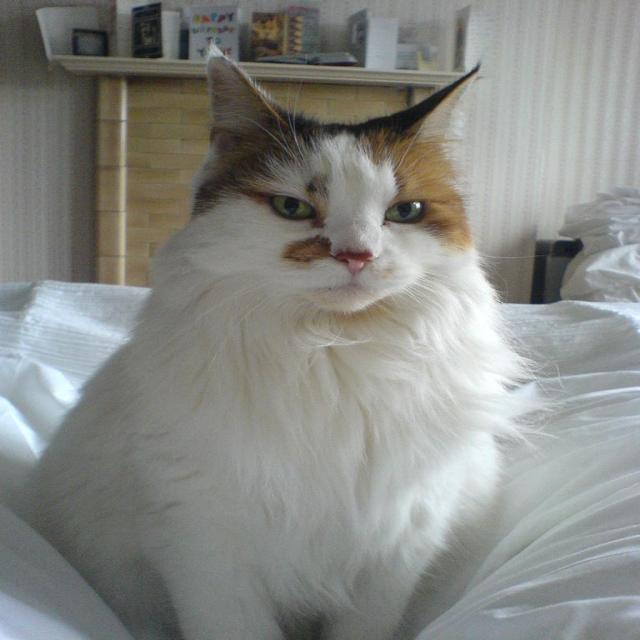Cat: (7, 38, 586, 638)
